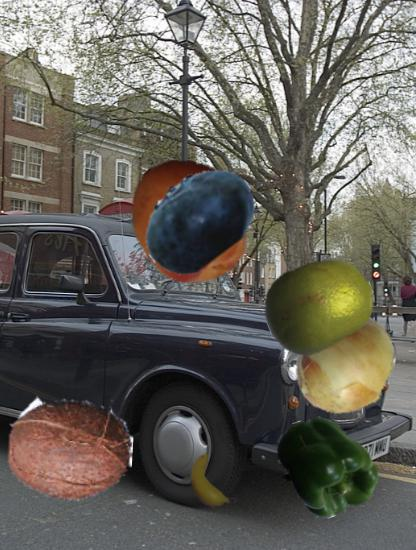Apricot: (124, 155, 256, 287)
Banana: (185, 453, 240, 508)
Blueberry: (137, 158, 260, 281)
Cocos: (6, 380, 133, 507)
Kaki: (13, 421, 89, 497)
Onion: (291, 310, 401, 420)
Pepper: (276, 414, 379, 517)
Pomelo: (264, 251, 376, 363)
